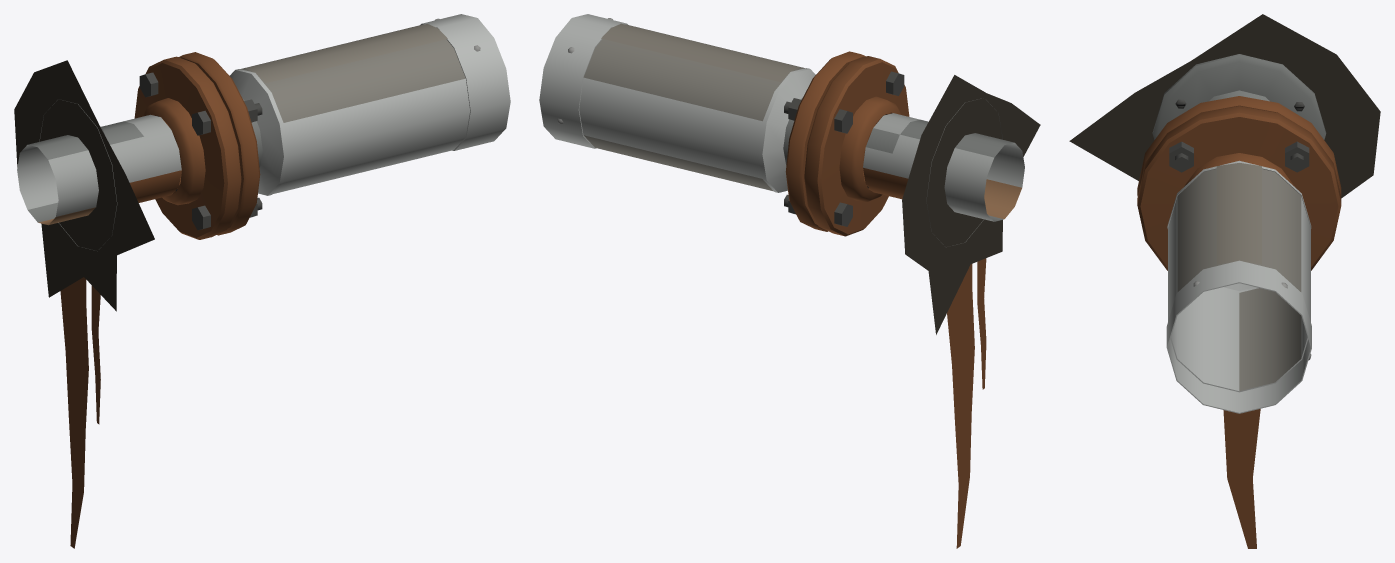
The model's file is pipe_wall@1.glb.
3 views of the same model, side by side, from view 1: azimuth 30°, elevation 25°; view 2: azimuth 150°, elevation 25°; view 3: azimuth 270°, elevation 25° (orthographic). The views are drawn at different scales.
Visible parts, largest first — view 1: pipe_wall8, pipe_wall3, pipe_wall7, pipe_wall9, pipe_wall0, pipe_wall11, pipe_wall1, pipe_wall4; view 2: pipe_wall3, pipe_wall8, pipe_wall7, pipe_wall9, pipe_wall0, pipe_wall11, pipe_wall1, pipe_wall4, pipe_wall2; view 3: pipe_wall3, pipe_wall7, pipe_wall8, pipe_wall9, pipe_wall1, pipe_wall11, pipe_wall4.
Part boxes in pixels (<box>): pipe_wall8: <box>230,14,510,195</box>; pipe_wall3: <box>60,52,260,548</box>; pipe_wall7: <box>14,60,154,311</box>; pipe_wall9: <box>240,25,465,122</box>; pipe_wall0: <box>17,114,181,216</box>; pipe_wall11: <box>245,24,447,82</box>; pipe_wall1: <box>28,98,262,251</box>; pipe_wall4: <box>139,72,262,230</box>; pipe_wall3: <box>785,51,986,548</box>; pipe_wall8: <box>539,14,815,192</box>; pipe_wall7: <box>902,75,1040,334</box>; pipe_wall9: <box>583,24,804,191</box>; pipe_wall0: <box>863,113,1024,221</box>; pipe_wall11: <box>601,23,799,81</box>; pipe_wall1: <box>783,97,1013,247</box>; pipe_wall4: <box>784,71,904,226</box>; pipe_wall2: <box>984,179,1021,219</box>; pipe_wall3: <box>1137,96,1341,548</box>; pipe_wall7: <box>1069,14,1380,198</box>; pipe_wall8: <box>1166,160,1311,413</box>; pipe_wall9: <box>1177,169,1301,390</box>; pipe_wall1: <box>1152,54,1326,139</box>; pipe_wall11: <box>1216,163,1261,264</box>; pipe_wall4: <box>1169,99,1309,172</box>.
Bounding box in the file's own units: 0.55 × 0.5781 × 0.3051.
